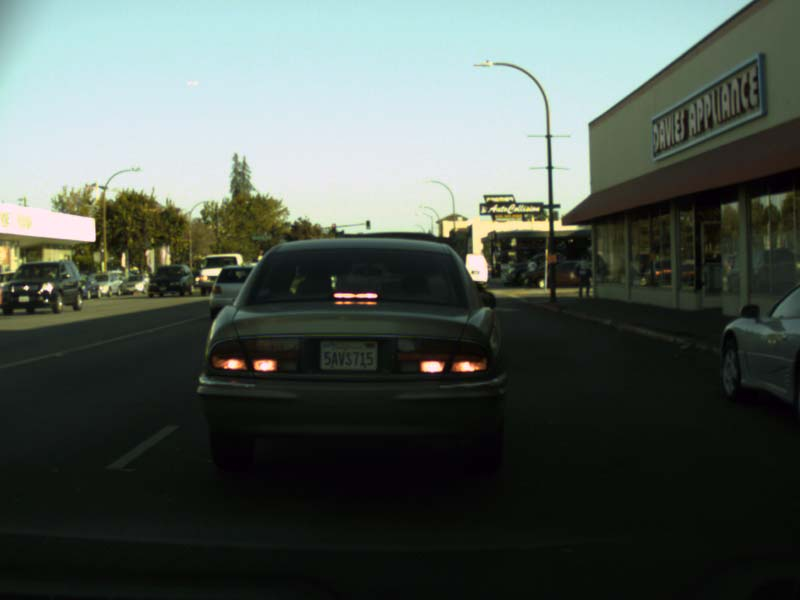Green: (365, 219, 369, 228)
Red: (331, 223, 335, 231)
